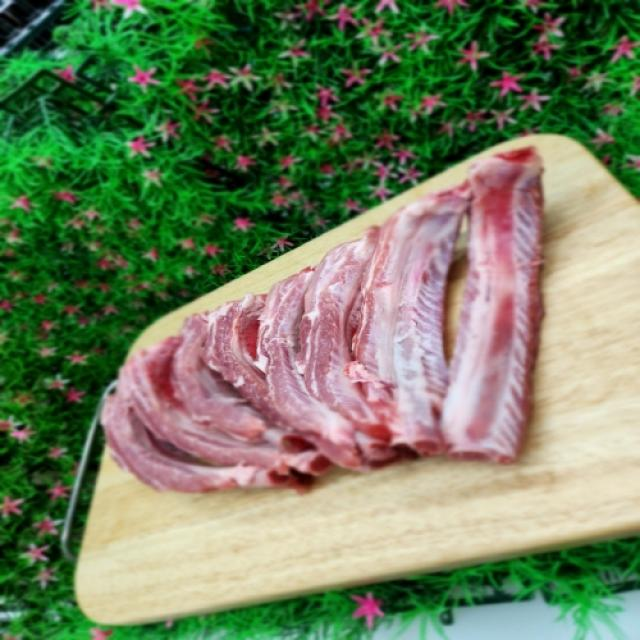pork: (84, 180, 578, 524)
